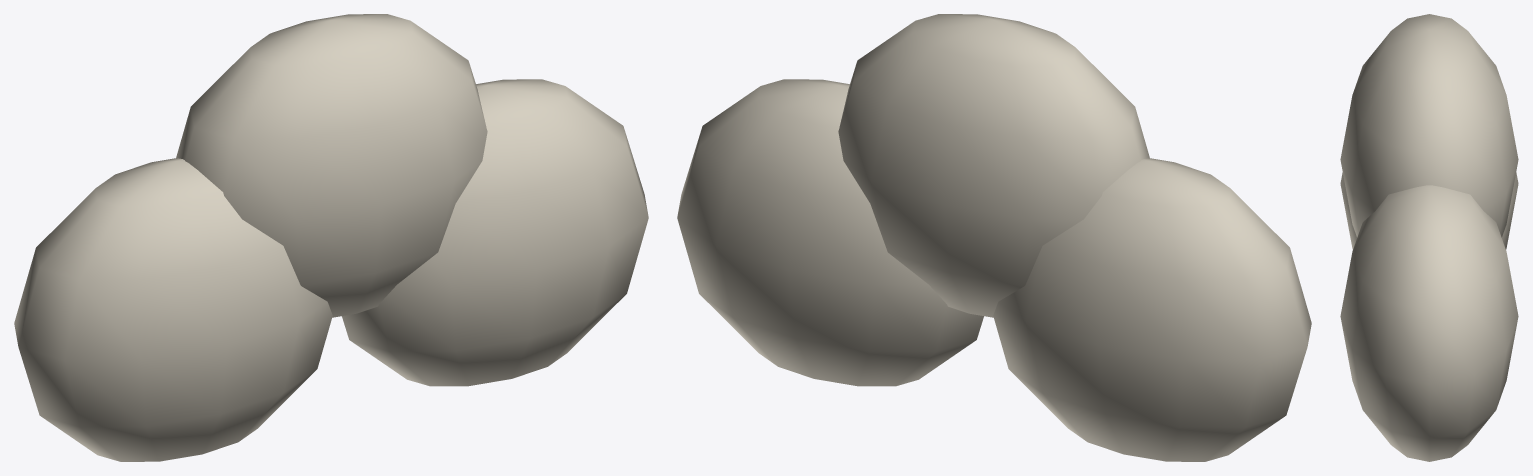
Rendered from sand.glb.
3 views of the same model, side by side, from view 1: azimuth 30°, elevation 25°; view 2: azimuth 150°, elevation 25°; view 3: azimuth 270°, elevation 25° (orthographic). The views are drawn at different scales.
Visible parts, largest first — view 1: sand; view 2: sand; view 3: sand.
Part boxes in pixels (left/top/right/bottom): sand: left=14, top=14, right=648, bottom=461; sand: left=677, top=14, right=1311, bottom=461; sand: left=1340, top=14, right=1518, bottom=461.
Bounding box in the file's own units: 0.4005 × 0.243 × 0.1125.
